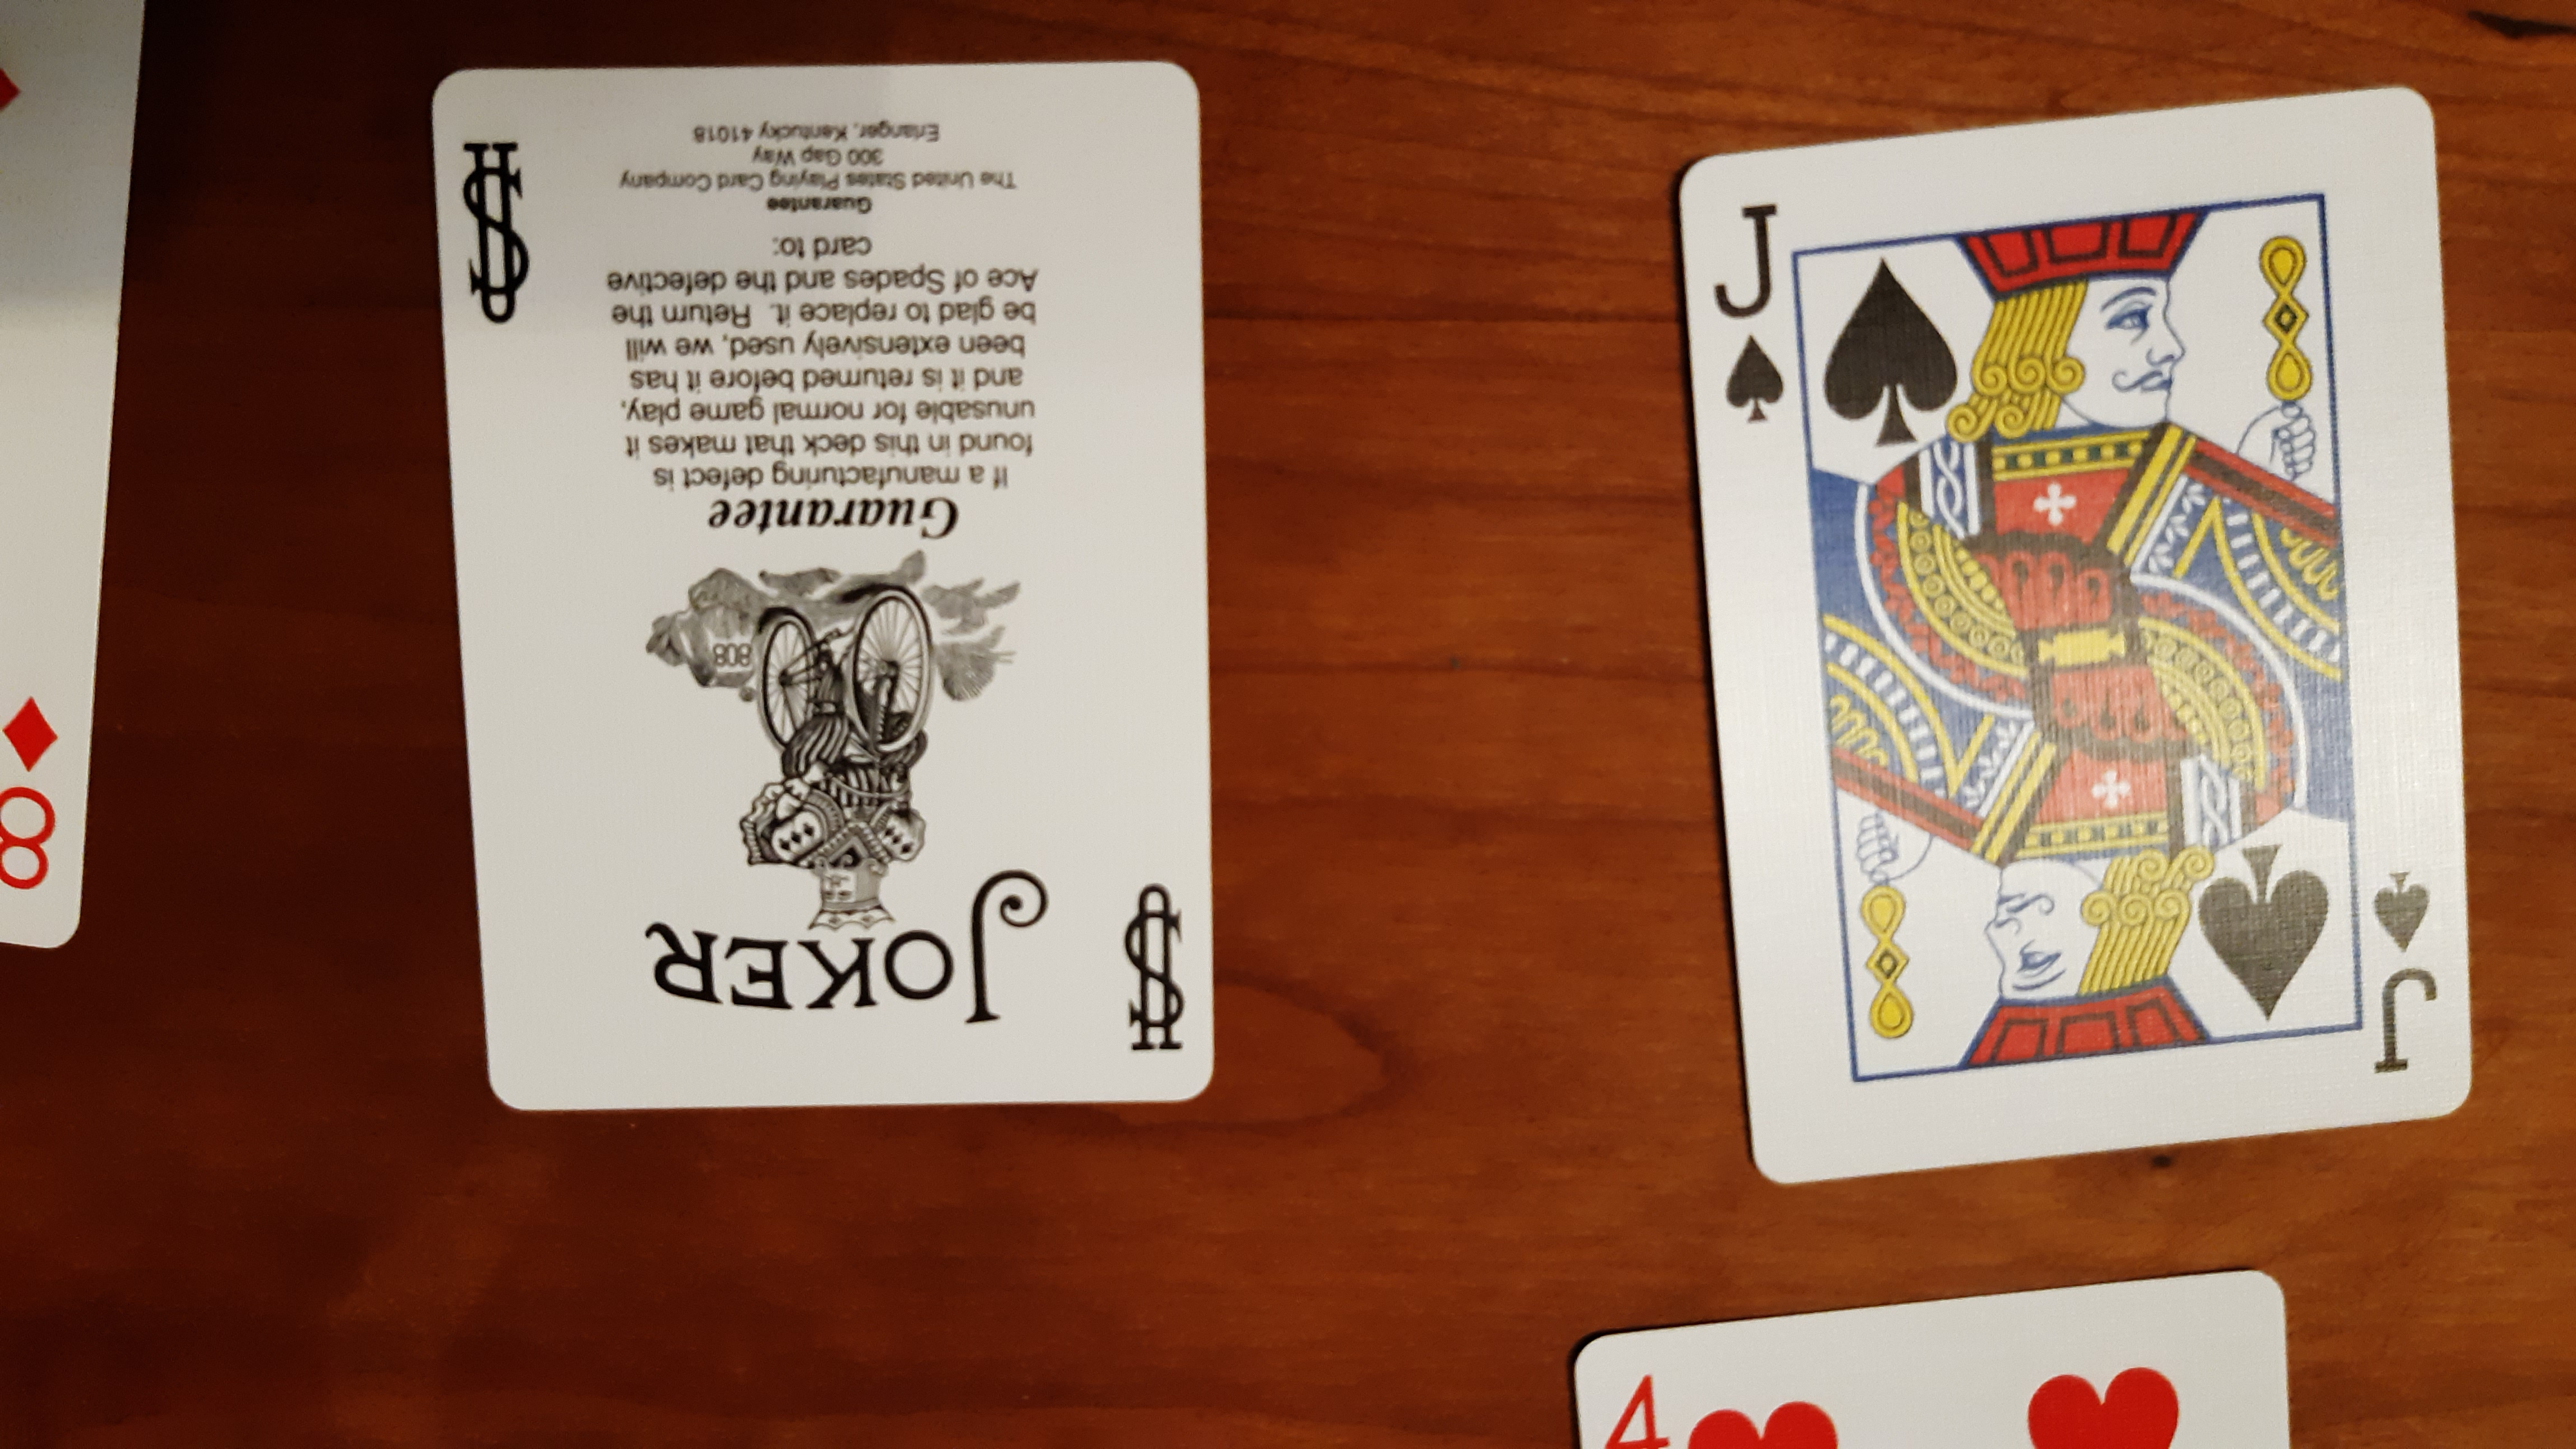Black_Spade_Jack: (1700, 188, 1787, 441), (2369, 858, 2450, 1088)
Joker: (619, 869, 1060, 1035)
Red_Diamond_8: (0, 681, 67, 897)
Red_Heart_4: (1598, 1346, 2215, 1449)
